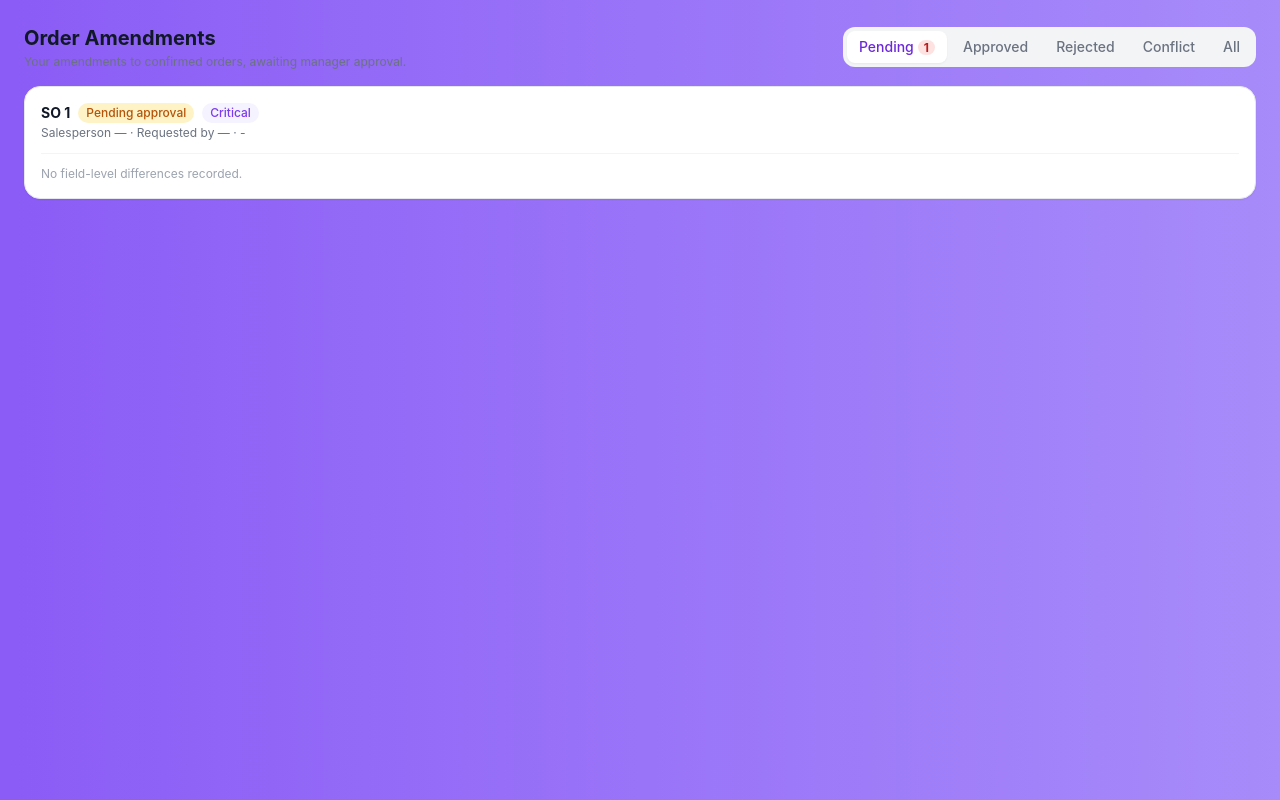
Scenario: OrderAmendmentsPage — Manager Rebase UI entry points › 12. a non-approver role sees no Approve/Reject/Review Conflict controls at all
The image size is (1280, 800).
Check: the text "SO 1" is shown, box [41,103,70,123]
Click the button "All": (1232, 47) [1211,31,1252,63]
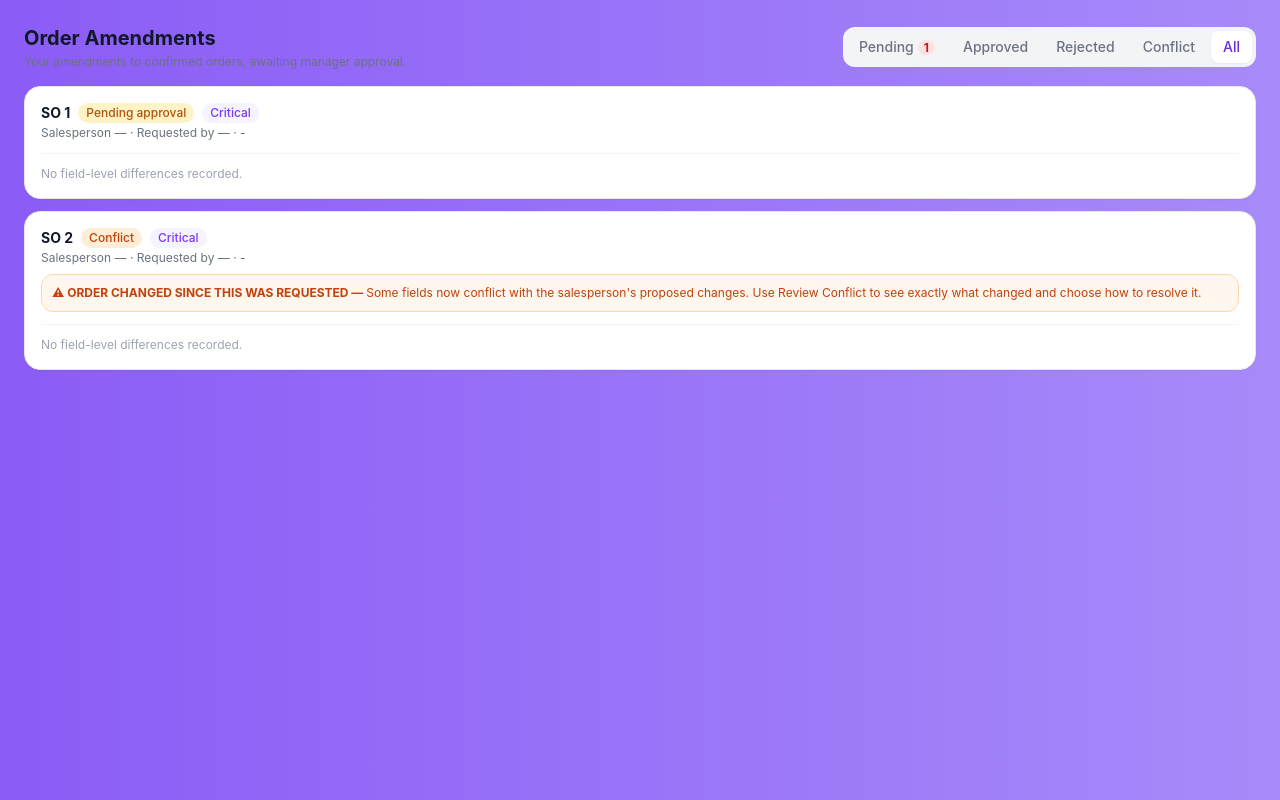
Check: the text "SO 2" is shown, box [41,228,73,248]
